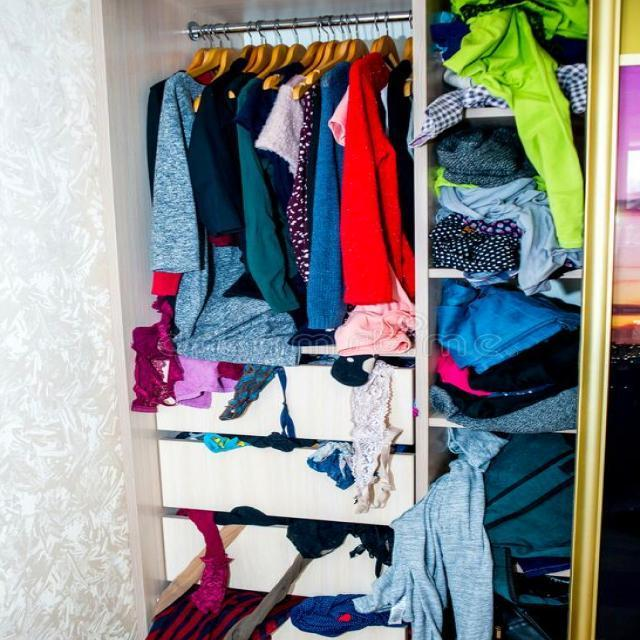clothes: (178, 30, 563, 640)
